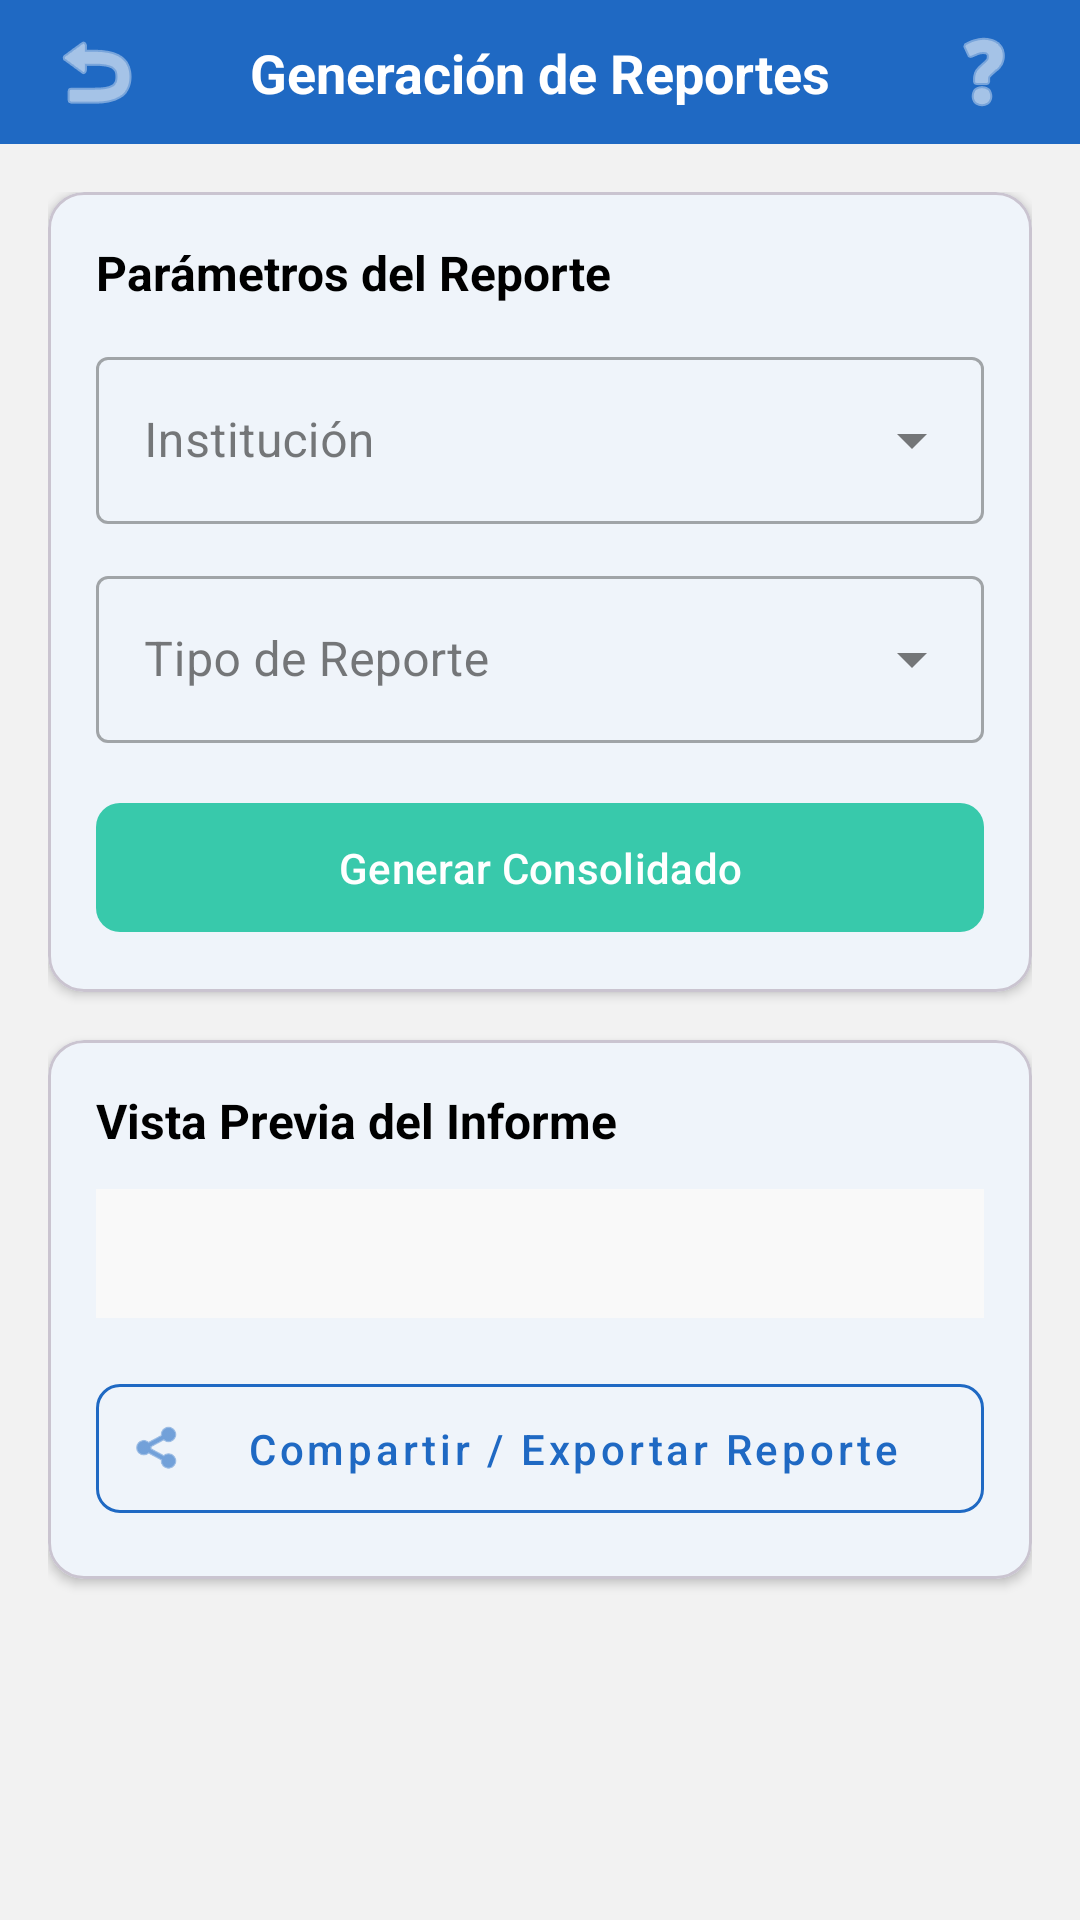

Screen size 1080px×1920px. Icon name, then its box in pixels as (left=x1, top=y1, right=x2, bottom=y2):
Atrás: (left=63, top=41, right=132, bottom=104)
Guía de Uso - DECE Gestión: (left=963, top=38, right=1005, bottom=106)
